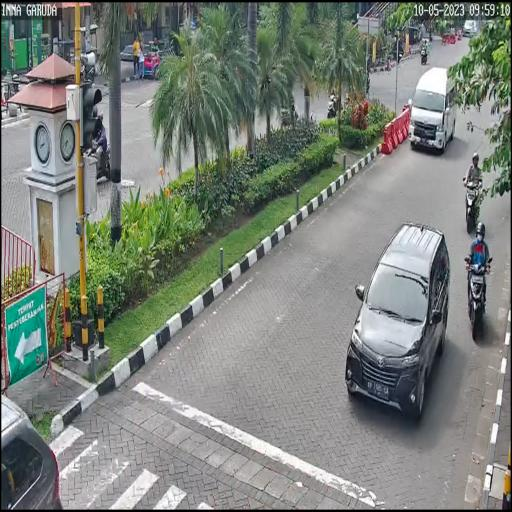mobil: (341, 214, 452, 426), (406, 64, 456, 156)
motor: (460, 254, 499, 342), (459, 168, 483, 238)
